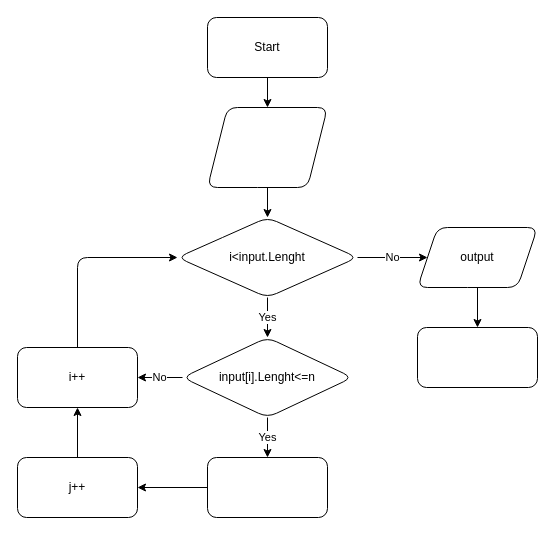
Image size: 555x535. Some labels were removed from this diagram. The shapes that lost their labels are listed below. From the top down, each one's centre as x and y in pixels, then its label:
At point 267,147: "string[] input, string[] output, int i=0, int j=0, int n=3".
At point 477,357: "End".
At point 267,487: "output[j]=input[i]".
